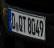0: (31, 18, 36, 35)
4: (35, 19, 40, 37)
8: (28, 16, 31, 34)
9: (39, 20, 44, 37)
D: (11, 12, 16, 30)
Q: (18, 15, 23, 32)
T: (22, 15, 26, 33)
